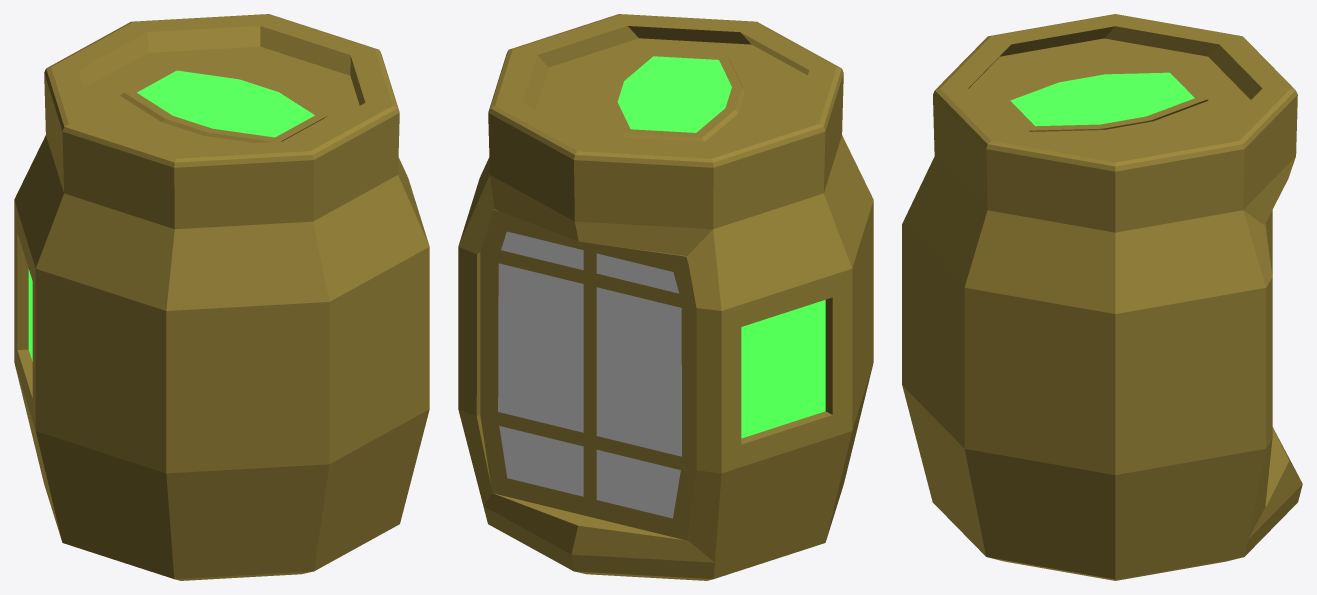
File: cargocontainer-gold.glb
3 renders of one model, left to right at view 1: azimuth 30°, elevation 25°; view 2: azimuth 150°, elevation 25°; view 3: azimuth 270°, elevation 25°, orthographic.
Parts seen in each view (by area): view 1: cilindro, pannello; view 2: cilindro, cilindro.001, oblo, pannello; view 3: cilindro, pannello.
Part boxes in pixels (x1,y1,x2,y2): cilindro: [14, 14, 429, 580]; pannello: [137, 70, 314, 137]; cilindro: [458, 14, 873, 580]; cilindro.001: [498, 231, 681, 518]; oblo: [741, 300, 825, 438]; pannello: [617, 56, 731, 132]; cilindro: [902, 14, 1302, 580]; pannello: [1010, 72, 1194, 126].
Bounding box in the file's own units: 2.33 × 2.57 × 2.19.
